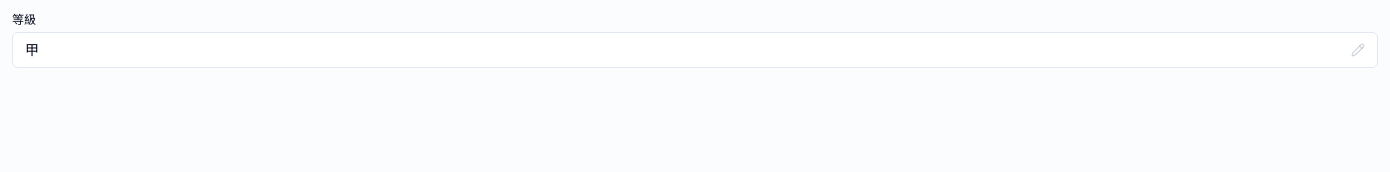
Test: EditableField radio（單選）無障礙 › 點開後為 radiogroup，選項為 radio 且反映 aria-checked
What coordinates should you click on to do the following:
click the button "甲"
I would click on:
 (32, 50)
Its box is [12,32,1378,68].
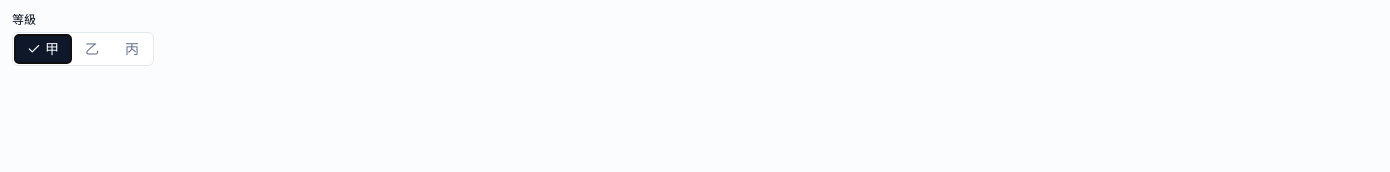
Expected: the element showing "甲 乙 丙" is shown, [12,32,154,66]
Expected: the number of radio buttons is 3, [15,35,71,63]; [73,35,111,63]; [113,35,151,63]
